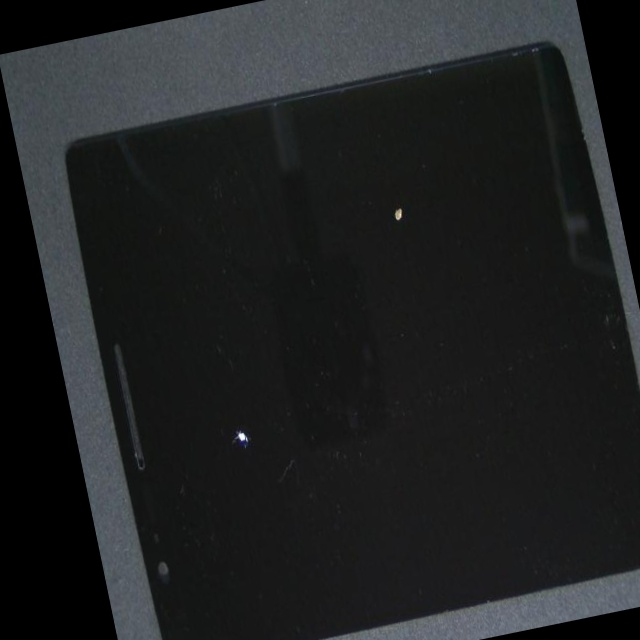stain: (168, 52, 573, 391), (136, 185, 343, 615)
